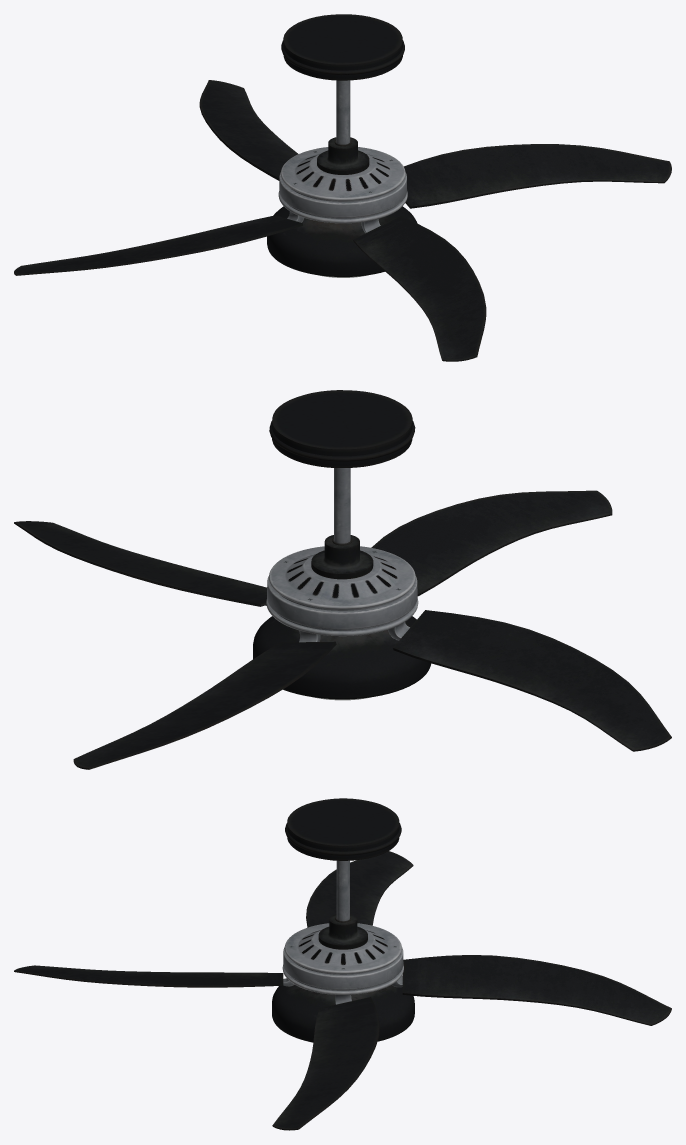
The model's file is ceiling-fan.glb.
The picture shows the model from 3 angles, top to bottom: view 1: azimuth 30°, elevation 25°; view 2: azimuth 150°, elevation 25°; view 3: azimuth 270°, elevation 25°; orthographic projection. The views are drawn at different scales.
Parts seen in each view (by area): view 1: ceiling_fan_blades, ceiling_fan; view 2: ceiling_fan_blades, ceiling_fan; view 3: ceiling_fan_blades, ceiling_fan.
Part boxes in pixels (box(x1,y1,x2,y2)): ceiling_fan_blades: box(14, 80, 671, 361); ceiling_fan: box(267, 14, 417, 277); ceiling_fan_blades: box(14, 490, 671, 769); ceiling_fan: box(253, 390, 431, 700); ceiling_fan_blades: box(14, 851, 671, 1130); ceiling_fan: box(272, 798, 414, 1042).
Size of the model in its own units: 1 by 0.353 by 1.
Materials: 1 (1 with a texture image).
